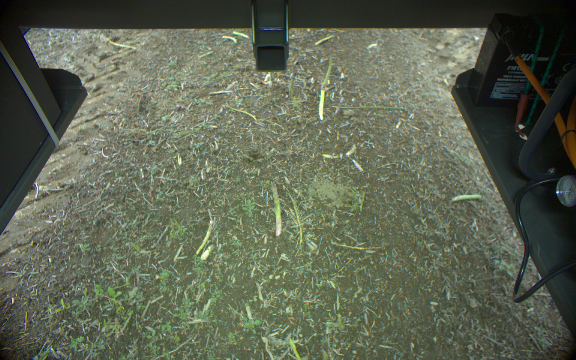aspa: (185, 207, 220, 257), (265, 180, 289, 241), (333, 101, 409, 114), (317, 46, 336, 90), (222, 103, 259, 125), (315, 84, 328, 124), (448, 189, 485, 203), (286, 333, 304, 360), (312, 32, 338, 45), (217, 36, 239, 47), (230, 30, 249, 40)
